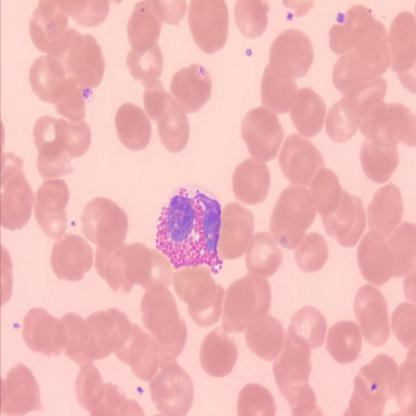Eosinophil: (156, 185, 225, 274)
